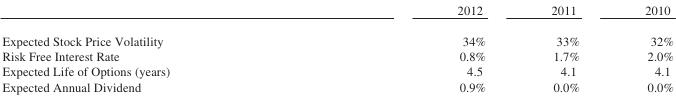table: (1, 0, 672, 94)
table column: (1, 0, 312, 94), (312, 0, 517, 94), (517, 0, 611, 94), (611, 0, 672, 94)
table column header: (1, 0, 672, 24)
table row: (1, 0, 672, 24), (1, 24, 672, 47), (1, 62, 672, 78), (1, 78, 672, 94), (1, 47, 672, 62)
